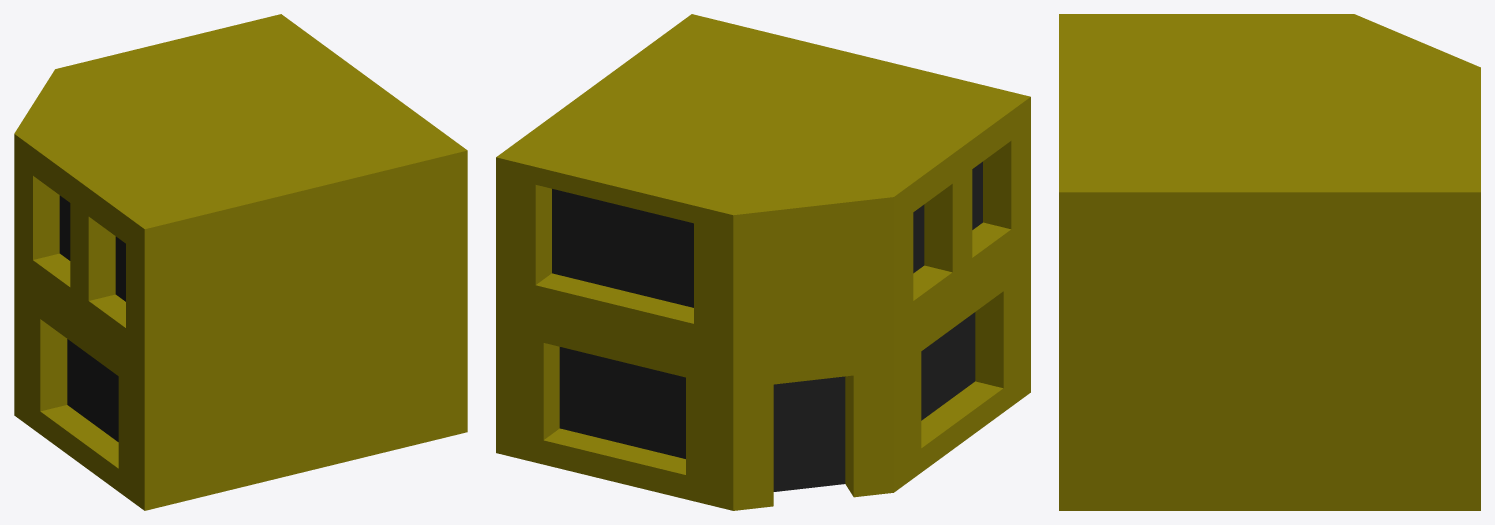
Rendered from Edificio-5.fbx.
3 views of the same model, side by side, from view 1: azimuth 30°, elevation 25°; view 2: azimuth 150°, elevation 25°; view 3: azimuth 270°, elevation 25° (orthographic). The views are drawn at different scales.
Parts seen in each view (by area): view 1: Plane; view 2: Plane; view 3: Plane.
Part boxes in pixels (left/top/right/bottom): Plane: left=14, top=14, right=467, bottom=510; Plane: left=496, top=14, right=1030, bottom=510; Plane: left=1059, top=14, right=1480, bottom=510.
Bounding box in the file's own units: 600 × 500 × 600.
